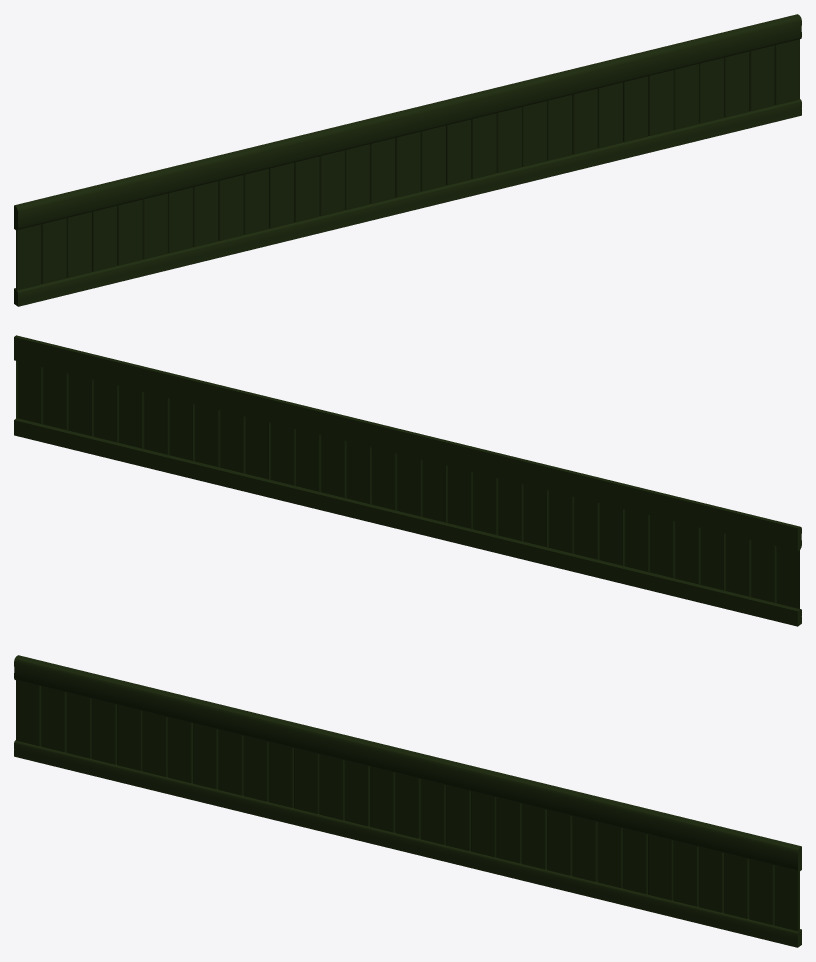
Rendered from MSG_BGLR_MoldingFloor.FBX.
3 renders of one model, top to bottom at view 1: azimuth 30°, elevation 25°; view 2: azimuth 150°, elevation 25°; view 3: azimuth 330°, elevation 25°, orthographic.
Visible parts, largest first — view 1: Object188; view 2: Object188; view 3: Object188.
Boxes of the visible parts, <box> form: Object188: <box>14,14,801,306</box>; Object188: <box>14,335,801,626</box>; Object188: <box>14,655,801,947</box>.
Bounding box in the file's own units: 1000 × 120 × 9.23.
